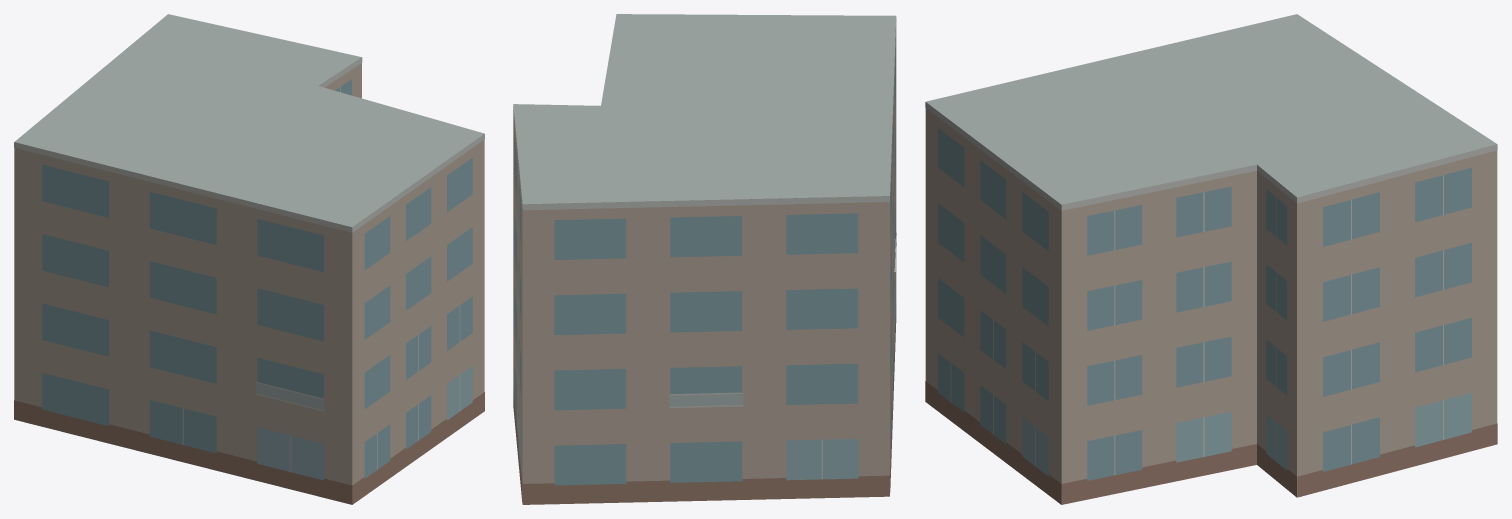
Rendered from survey-upis-32788750.glb.
3 renders of one model, left to right at view 1: azimuth 30°, elevation 25°; view 2: azimuth 150°, elevation 25°; view 3: azimuth 270°, elevation 25°, orthographic. The views are drawn at different scales.
Parts seen in each view (by area): view 1: survey-upis-32788750.tmp; view 2: survey-upis-32788750.tmp; view 3: survey-upis-32788750.tmp.
Part boxes in pixels (left/top/right/bottom): survey-upis-32788750.tmp: left=14, top=14, right=484, bottom=504; survey-upis-32788750.tmp: left=513, top=14, right=896, bottom=504; survey-upis-32788750.tmp: left=925, top=14, right=1497, bottom=504.
Size of the model in its own units: 16.5 by 12.1 by 20.91.
